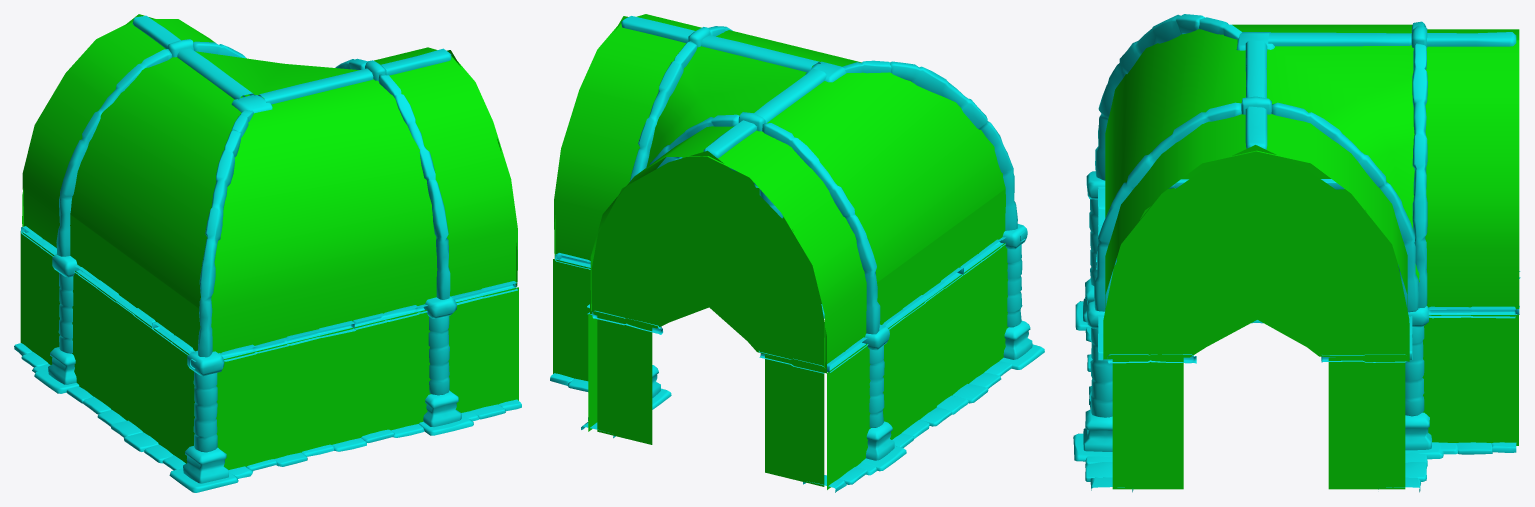
File: Hallway_Corner_4.fbx
3 renders of one model, left to right at view 1: azimuth 30°, elevation 25°; view 2: azimuth 150°, elevation 25°; view 3: azimuth 270°, elevation 25°, orthographic. The views are drawn at different scales.
Parts seen in each view (by area): view 1: Room_Corner_4:Corner3Walls, Room_Corner_4:Corner3Frame; view 2: Room_Corner_4:Corner3Walls, Room_Corner_4:Corner3Frame; view 3: Room_Corner_4:Corner3Walls, Room_Corner_4:Corner3Frame.
Boxes of the visible parts, x1=… form: Room_Corner_4:Corner3Walls: x1=20, y1=14, x2=518, y2=469; Room_Corner_4:Corner3Frame: x1=14, y1=15, x2=521, y2=492; Room_Corner_4:Corner3Walls: x1=553, y1=14, x2=1008, y2=489; Room_Corner_4:Corner3Frame: x1=550, y1=16, x2=1044, y2=492; Room_Corner_4:Corner3Walls: x1=1103, y1=24, x2=1519, y2=489; Room_Corner_4:Corner3Frame: x1=1073, y1=14, x2=1520, y2=492.
Size of the model in its own units: 1021 by 1025 by 895.
